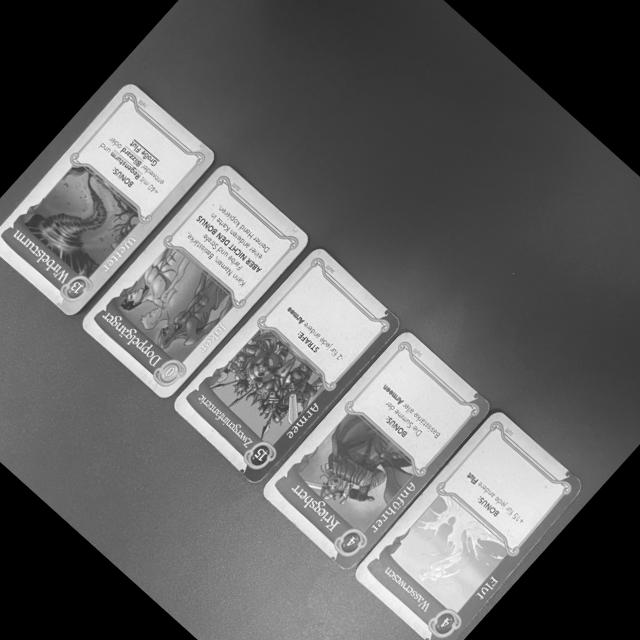Doppelganger: (75, 157, 315, 404)
Dwarvish Infantry: (171, 240, 405, 485)
Warlord: (259, 324, 498, 576)
Water Elemental: (350, 406, 587, 640)
Whirlwind: (0, 73, 218, 316)
